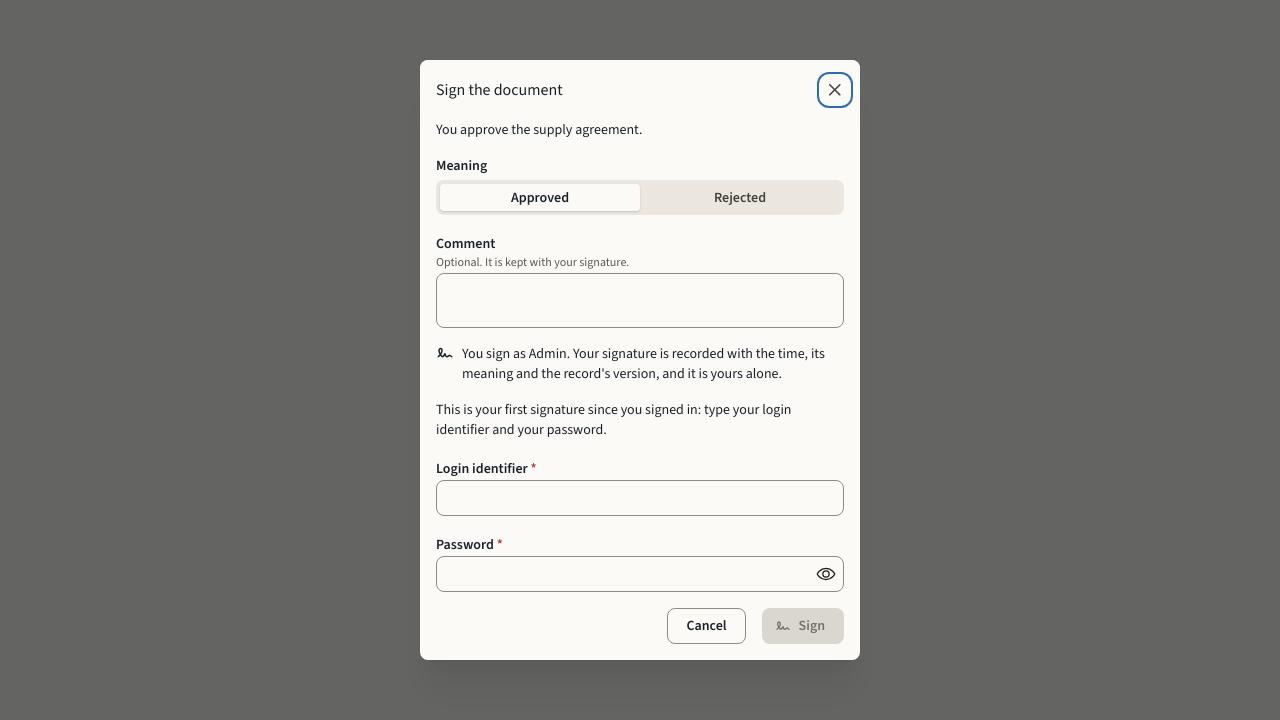
Test: the signing dialog › shows why a refused signature was refused, with its correlation id, and keeps the dialog [TF-063 AC1, ADR-0051]
Click the field labelled "Login identifier *".
click(640, 498)  # box 436,480 -> 844,516
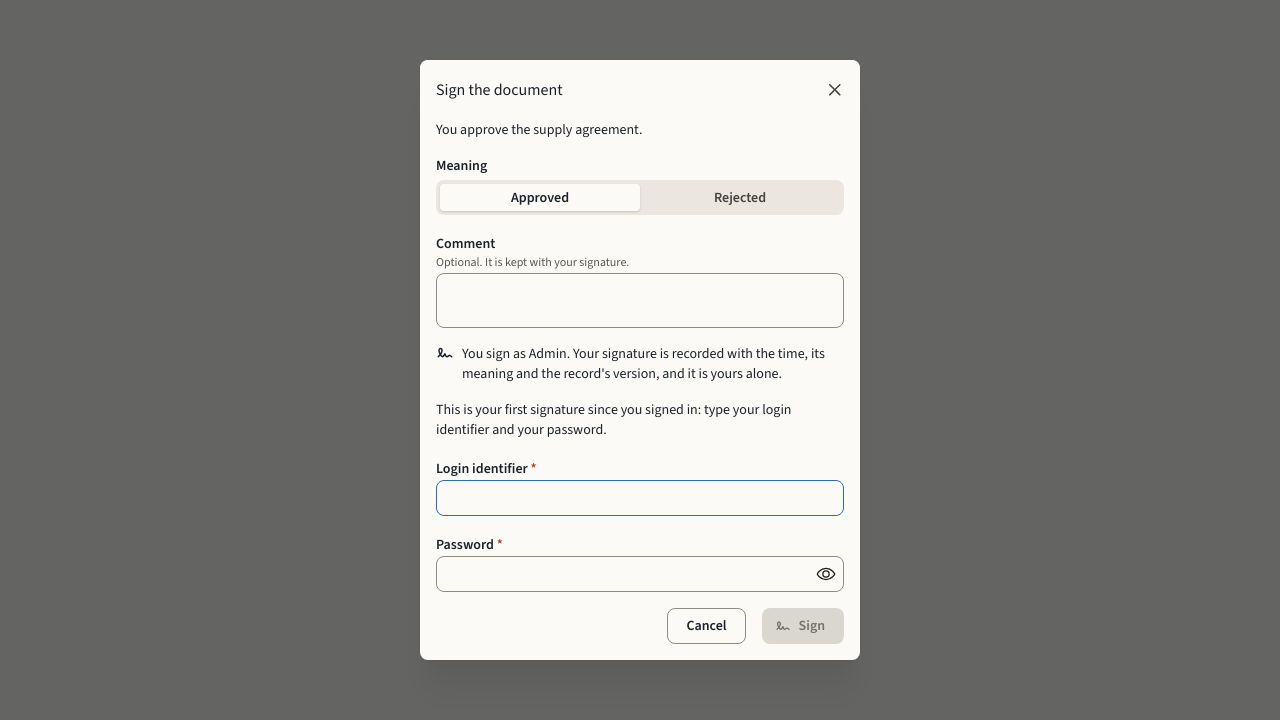
Type keys "admin@acme.localhost"
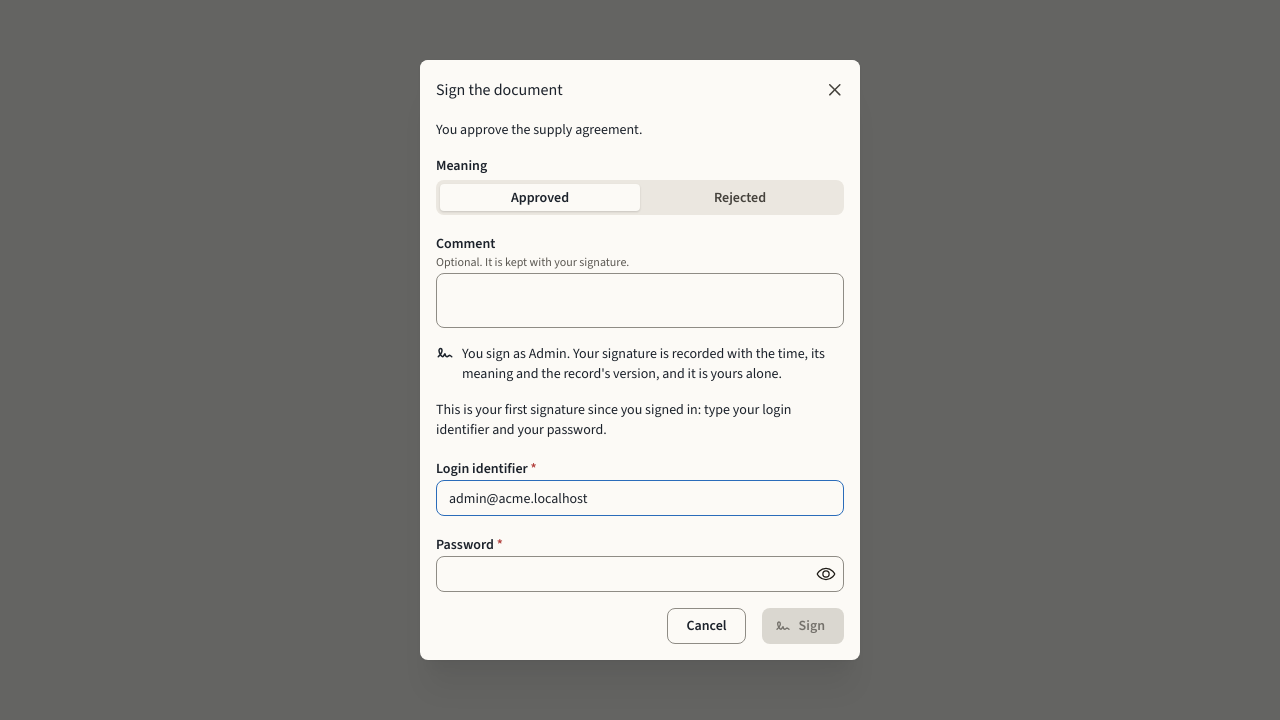
Click the password field labelled "Password *".
click(640, 574)  # box 437,557 -> 843,591
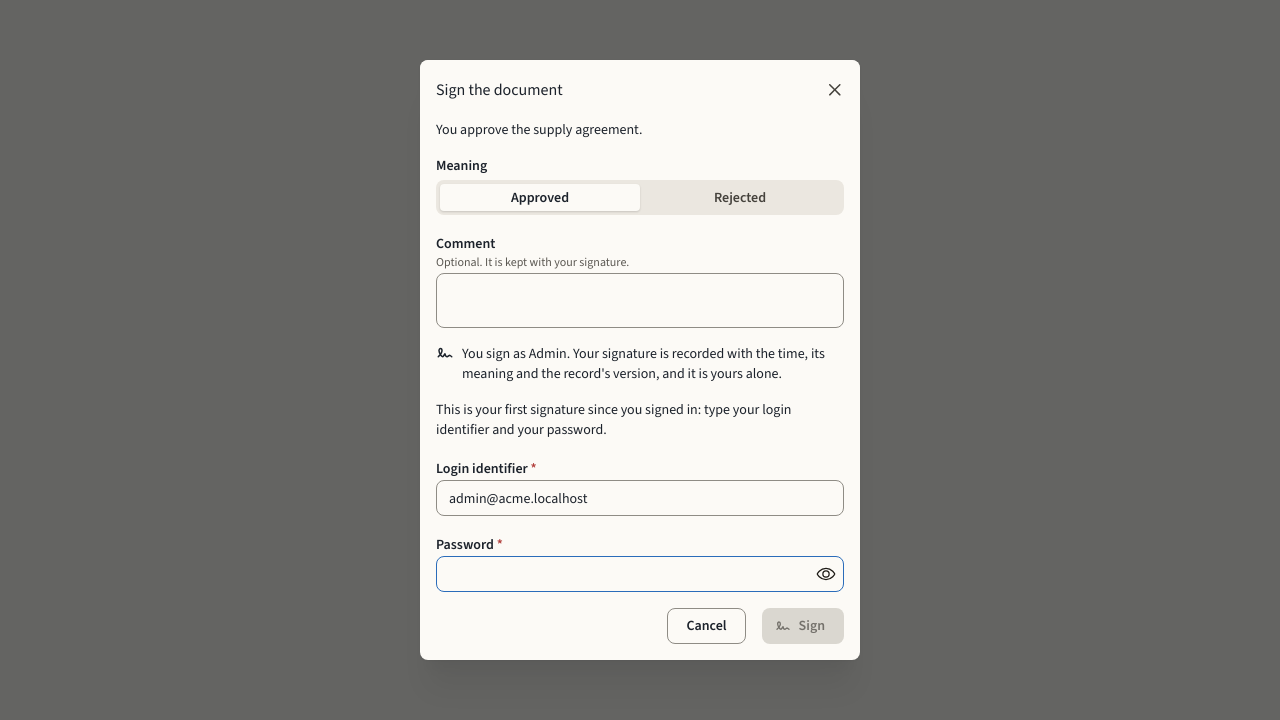
Type keys "not the password"
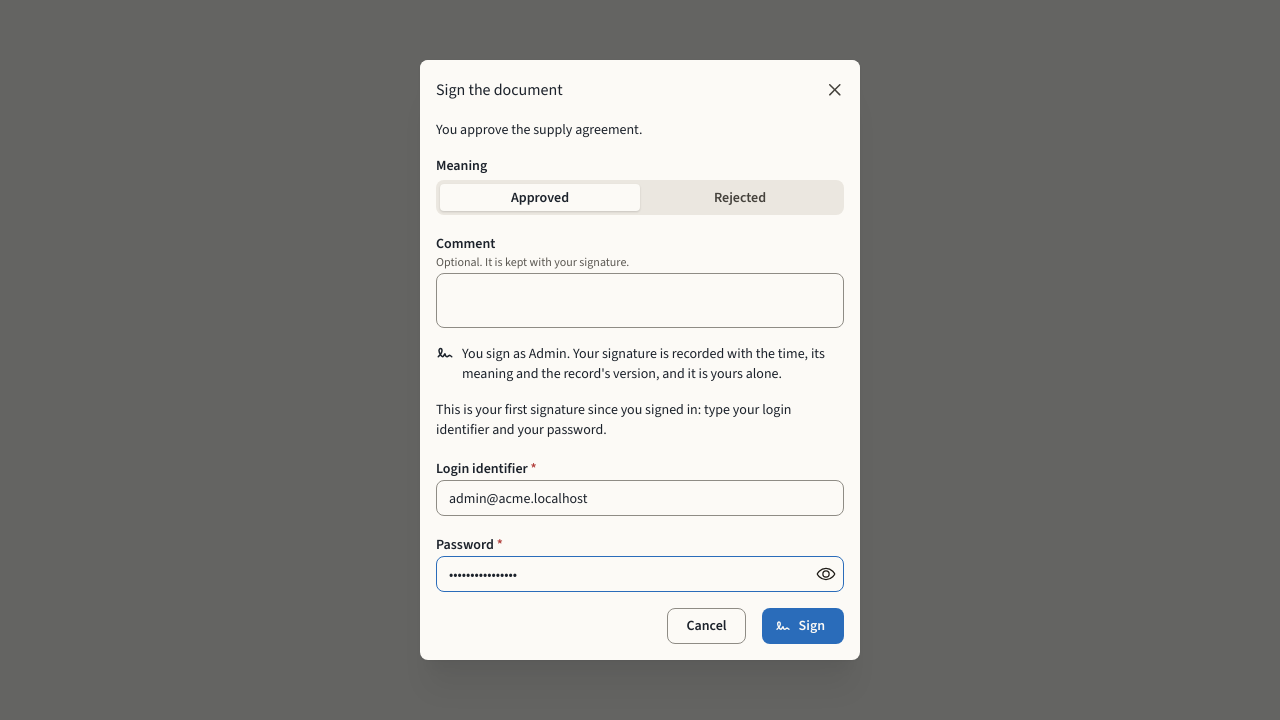
Click the button "Sign".
click(803, 626)  # box 762,608 -> 844,644
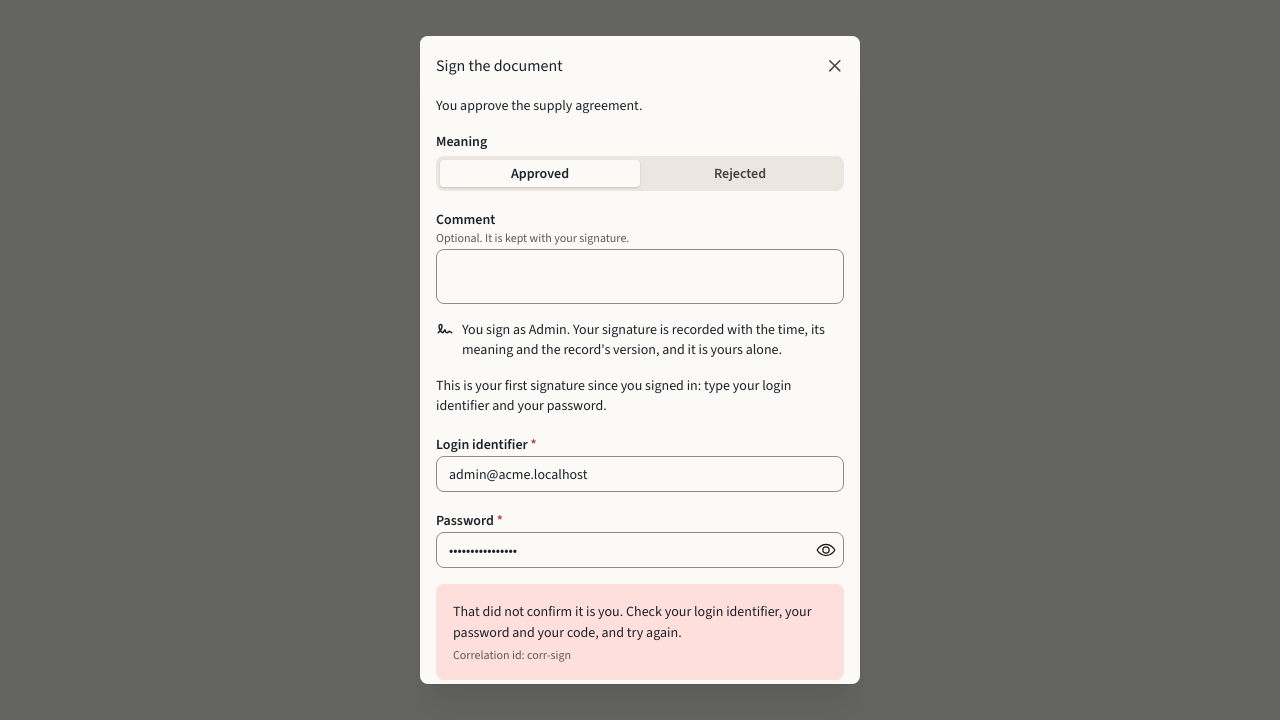
Expected: the dialog "Sign the document" is shown, 420,36 -> 860,684
Now the message shows "That did not confirm it is you.", box 453,602 -> 812,642
Now the message shows "corr-sign", box 453,647 -> 571,663
